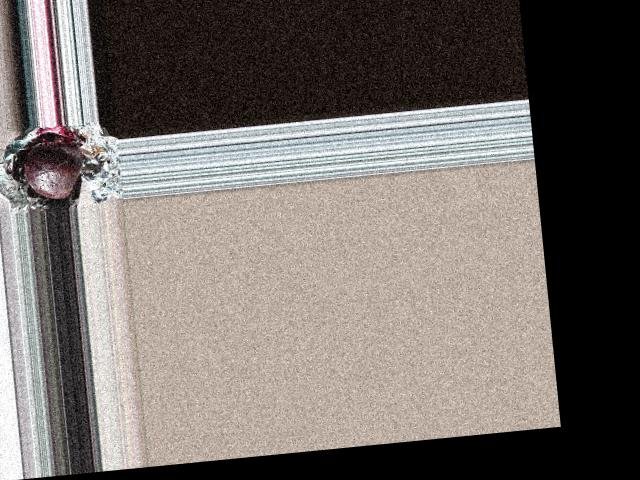beet: (21, 140, 87, 202)
